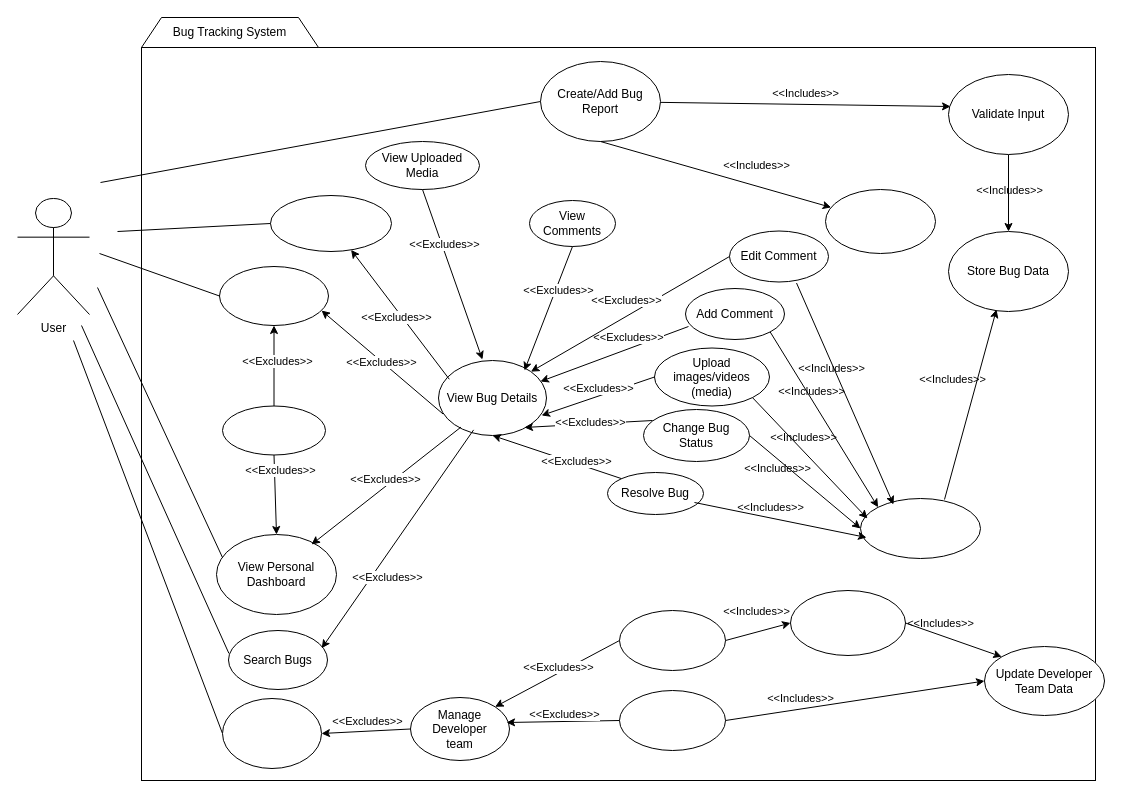
Some shapes in this 1122 by 798 pixel diagram are drawn without their labels. Each missing label, with the box of its shape:
Add developer to team: (618, 610, 726, 670)
Display Result: (824, 188, 936, 254)
Drop & Drag Cards: (222, 405, 326, 455)
Remove developer from team: (618, 690, 726, 750)
Update Bug Information: (860, 498, 980, 558)
Validate Developer: (790, 590, 906, 656)
View Developer Team: (222, 698, 322, 768)
View History: (270, 194, 392, 252)
View Main Dashboard: (218, 266, 328, 326)
